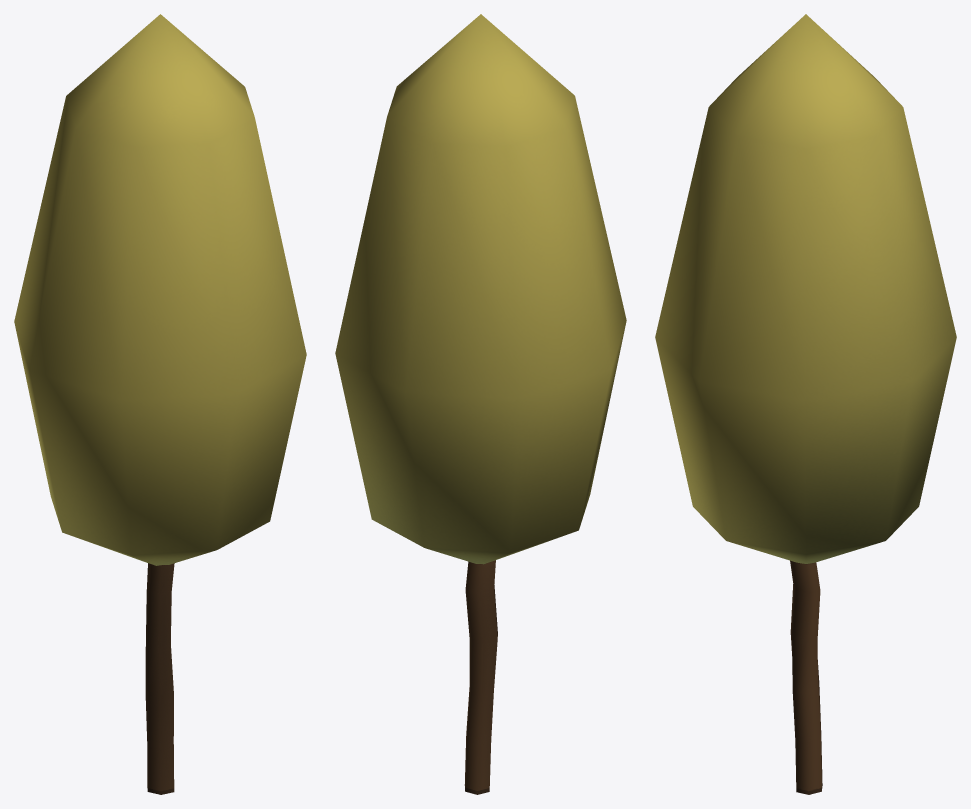
File: tree_4.fbx
The picture shows the model from 3 angles, left to right: view 1: azimuth 30°, elevation 25°; view 2: azimuth 150°, elevation 25°; view 3: azimuth 270°, elevation 25°; orthographic projection.
Parts seen in each view (by area): view 1: tree07; view 2: tree07; view 3: tree07.
Part boxes in pixels (x1,y1,x2,y2): tree07: (14, 14, 306, 794); tree07: (335, 14, 626, 794); tree07: (655, 14, 956, 794).
Size of the model in its own units: 296 by 837 by 296.
Materials: 2 (2 with a texture image).
